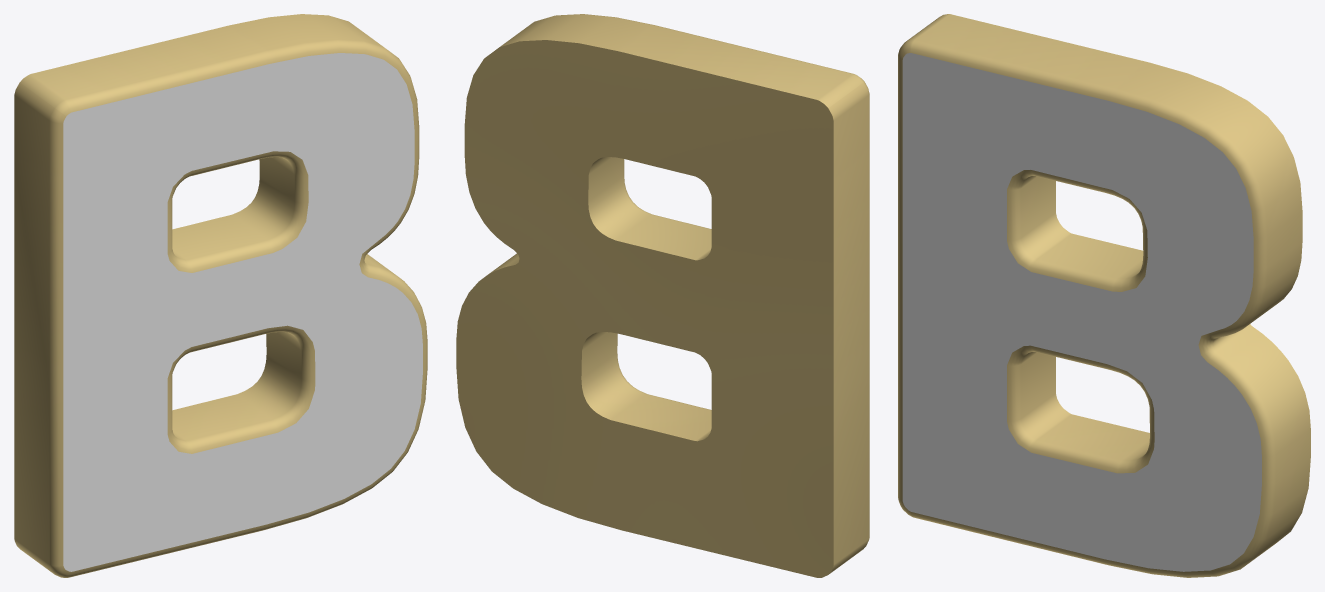
File: LettersLightUp02_B.FBX
3 renders of one model, left to right at view 1: azimuth 30°, elevation 25°; view 2: azimuth 150°, elevation 25°; view 3: azimuth 330°, elevation 25°, orthographic.
Visible parts, largest first — view 1: LettersLightUp02_B; view 2: LettersLightUp02_B; view 3: LettersLightUp02_B.
Part boxes in pixels (bbox=[...]): LettersLightUp02_B: bbox=[14, 14, 427, 577]; LettersLightUp02_B: bbox=[456, 14, 869, 577]; LettersLightUp02_B: bbox=[898, 14, 1310, 577].
Size of what is drawn, in the model's own units: 0.4953 by 0.6 by 0.0912.
